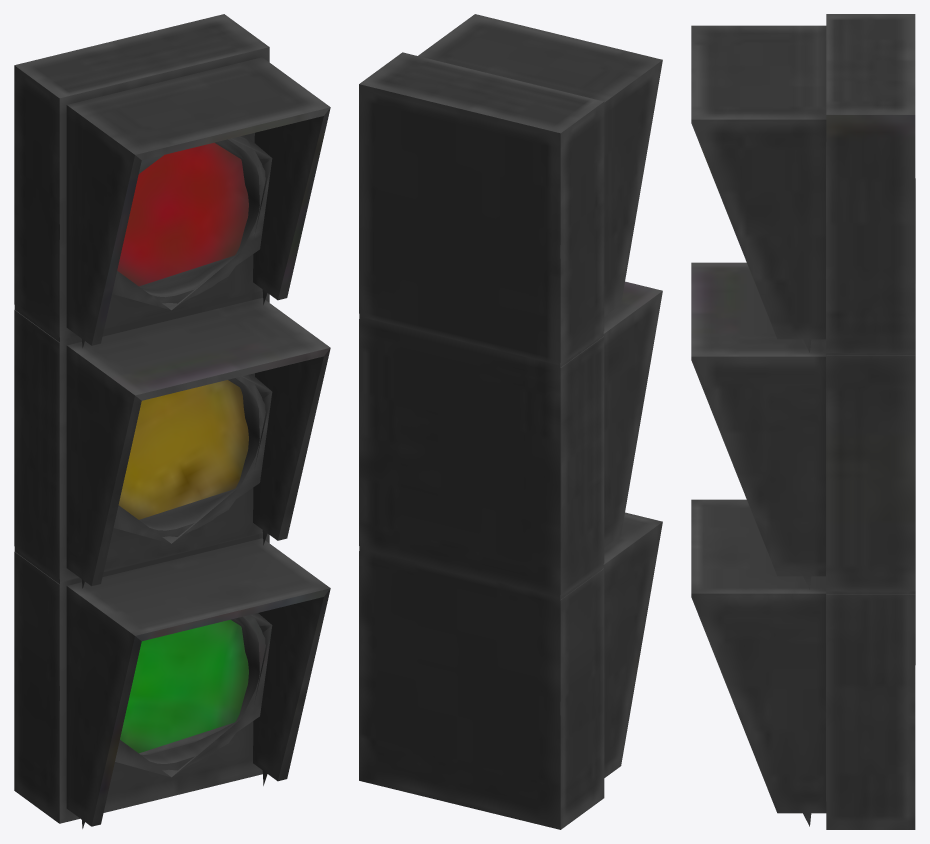
File: street-traffic-light.glb
3 views of the same model, side by side, from view 1: azimuth 30°, elevation 25°; view 2: azimuth 150°, elevation 25°; view 3: azimuth 270°, elevation 25° (orthographic). The views are drawn at different scales.
Visible parts, largest first — view 1: SM_SM_CityProps_TrafficLights_A_LOD0; view 2: SM_SM_CityProps_TrafficLights_A_LOD0; view 3: SM_SM_CityProps_TrafficLights_A_LOD0.
Part boxes in pixels (<box>): SM_SM_CityProps_TrafficLights_A_LOD0: <box>14,14,330,828</box>; SM_SM_CityProps_TrafficLights_A_LOD0: <box>359,14,662,829</box>; SM_SM_CityProps_TrafficLights_A_LOD0: <box>691,14,915,829</box>.
Size of the model in its own units: 0.9643 by 3.2 by 0.9038.
1 material, 1 textured.
